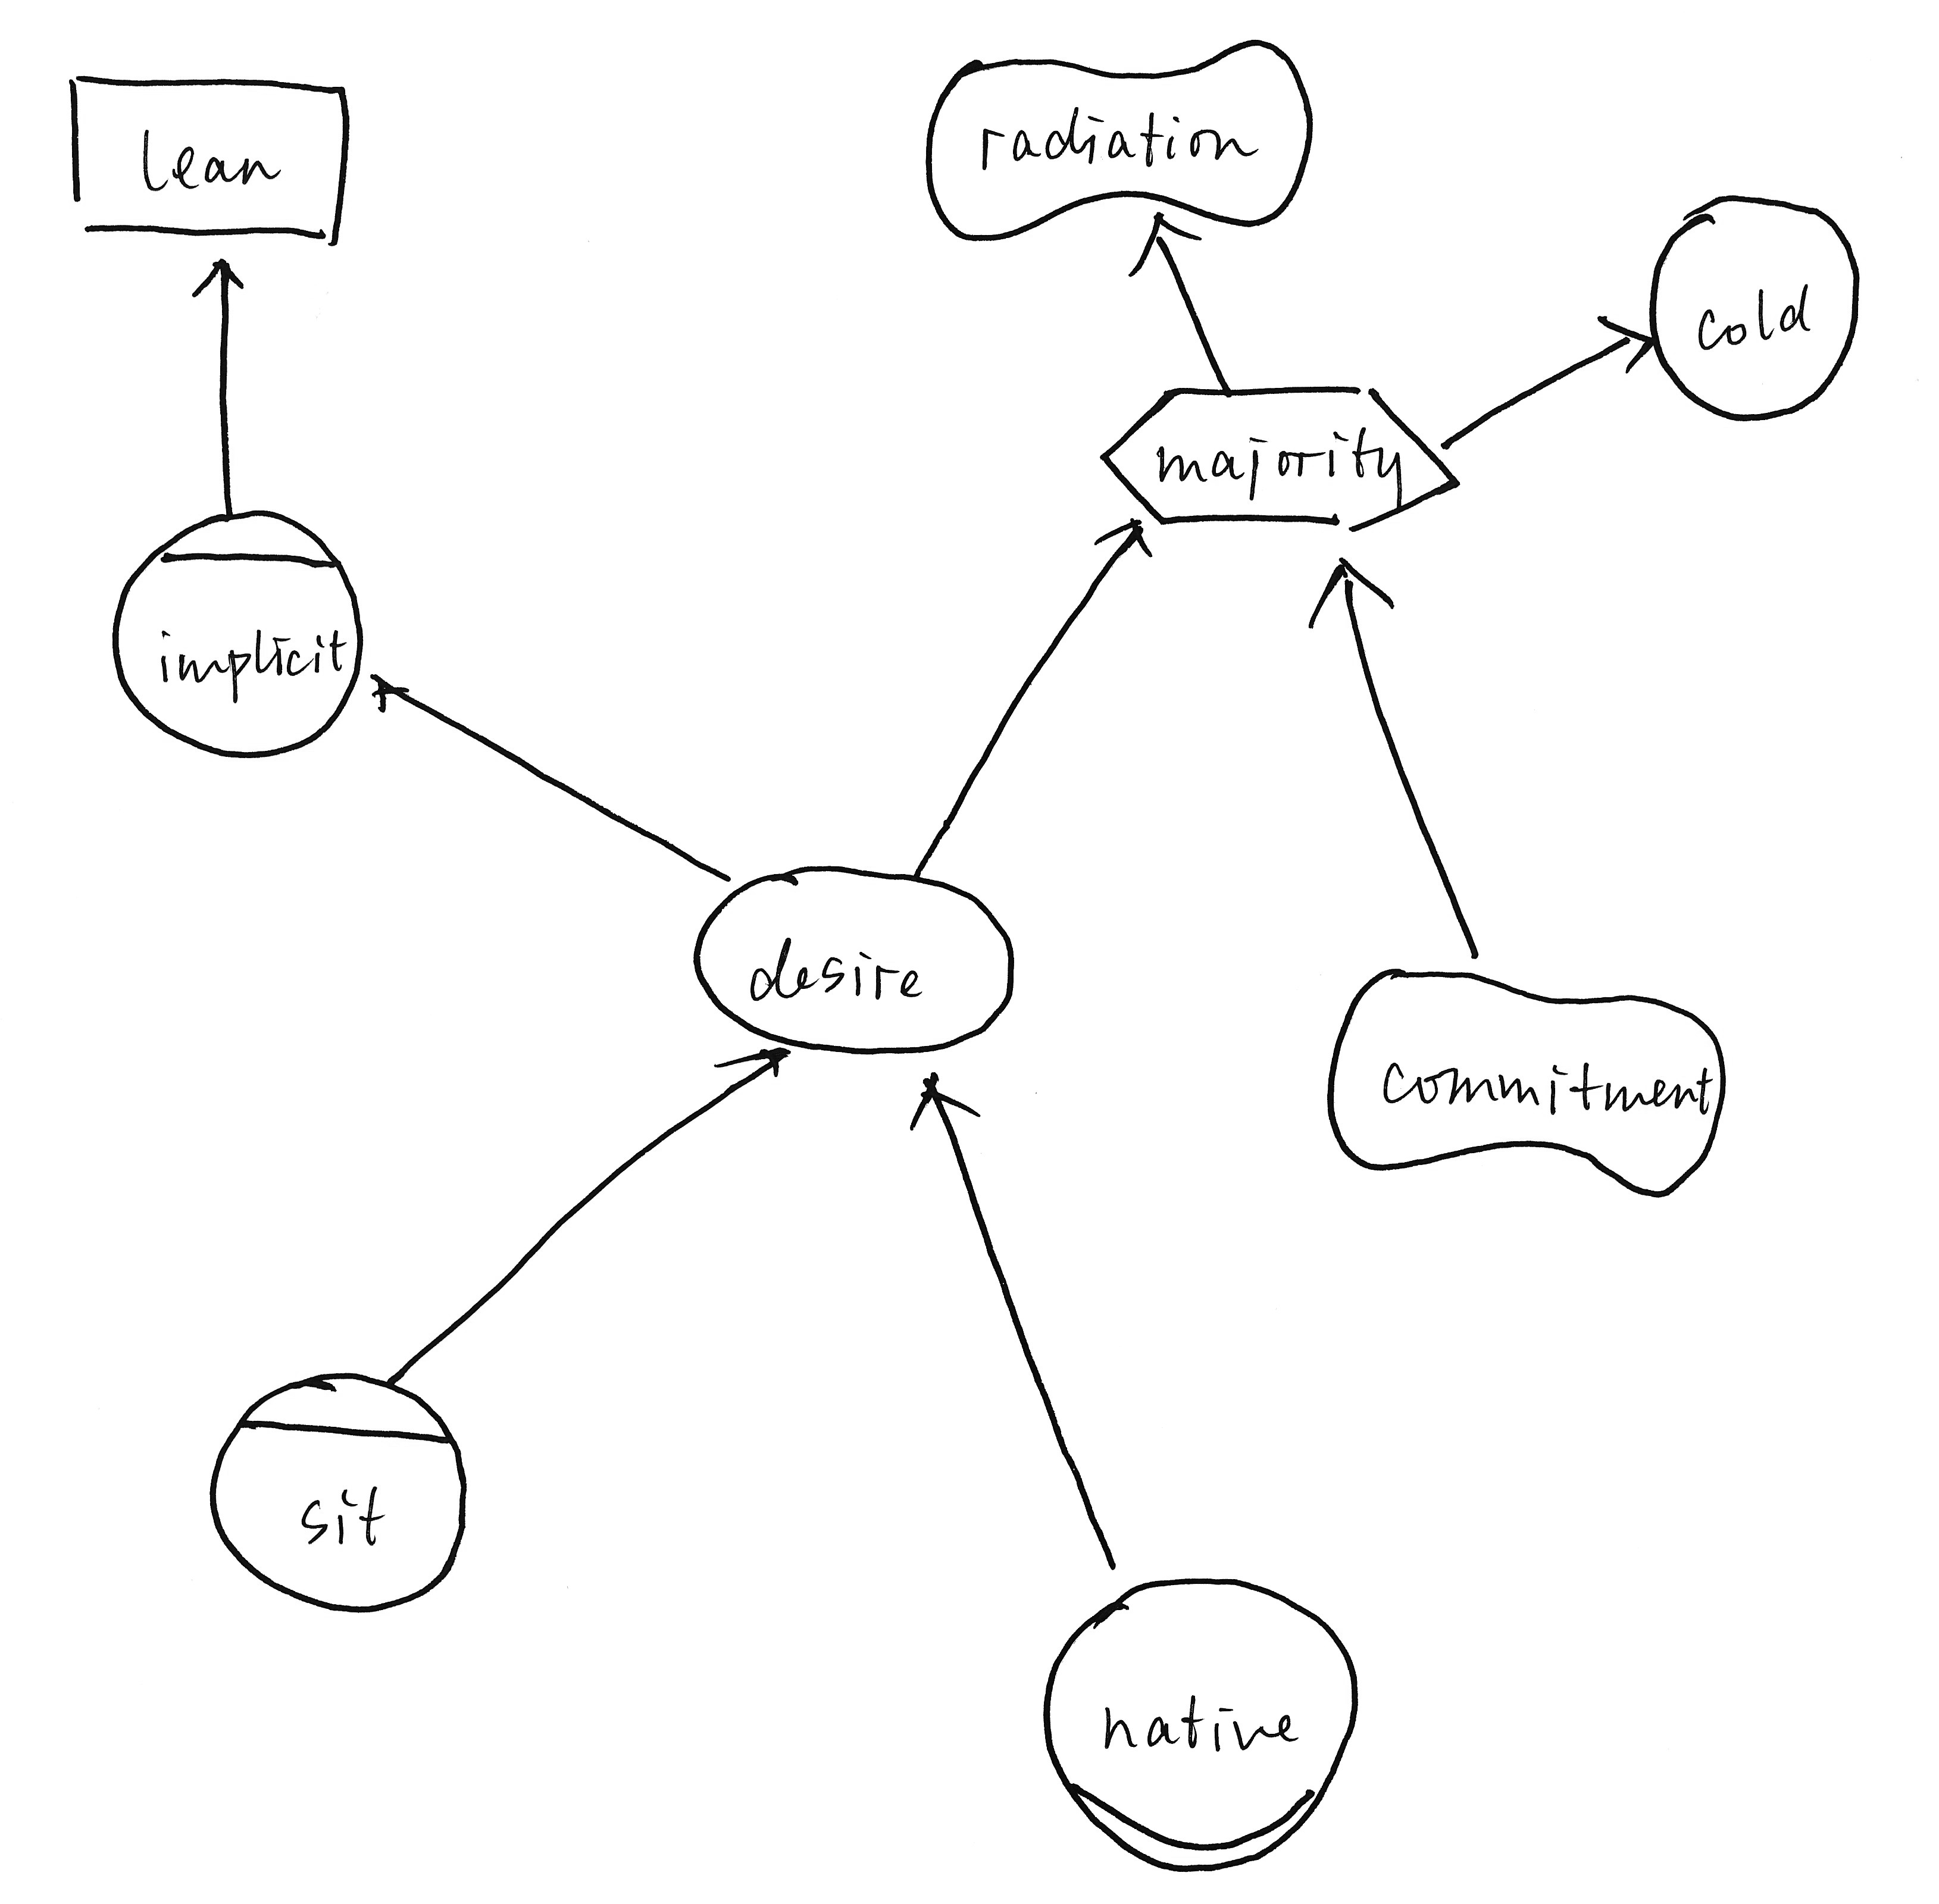actor: (1629, 174, 1871, 434)
agent: (197, 1358, 492, 1630), (99, 499, 380, 769)
arrow: (1280, 546, 1405, 642), (893, 1067, 1020, 1153), (1573, 300, 1667, 396), (1121, 199, 1222, 286), (1064, 511, 1165, 575), (715, 1037, 806, 1109), (174, 249, 255, 305), (359, 663, 427, 725)
goal: (687, 842, 1039, 1071)
quality: (1315, 947, 1749, 1222), (915, 23, 1318, 251)
resource: (44, 45, 378, 258)
role: (1034, 1564, 1369, 1881)
task: (1086, 366, 1480, 551)
